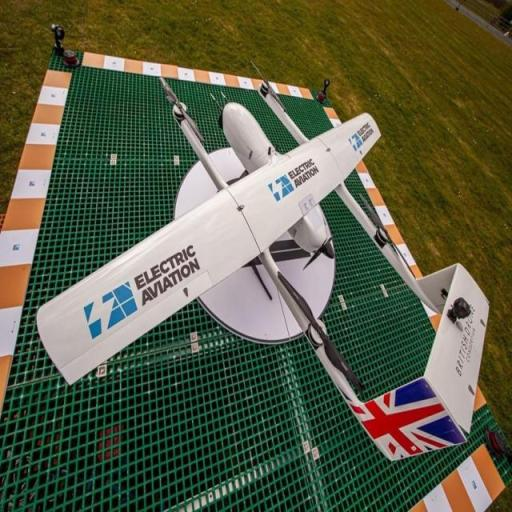uav: (46, 76, 496, 466)
